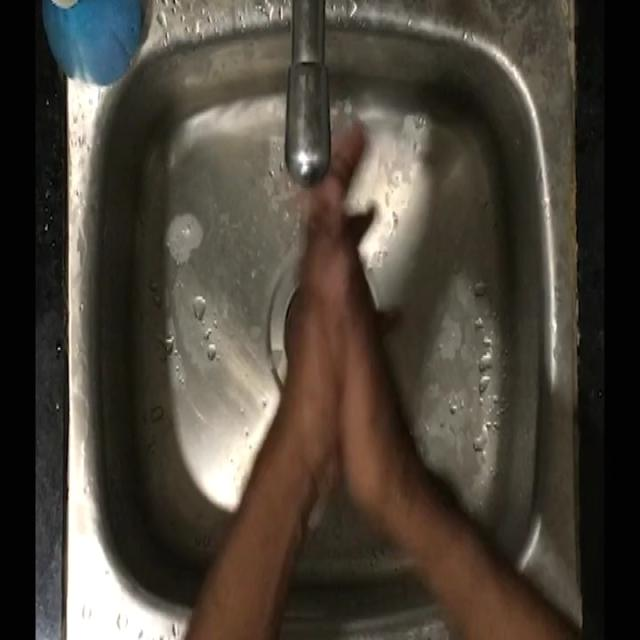step_3: (271, 103, 398, 470)
